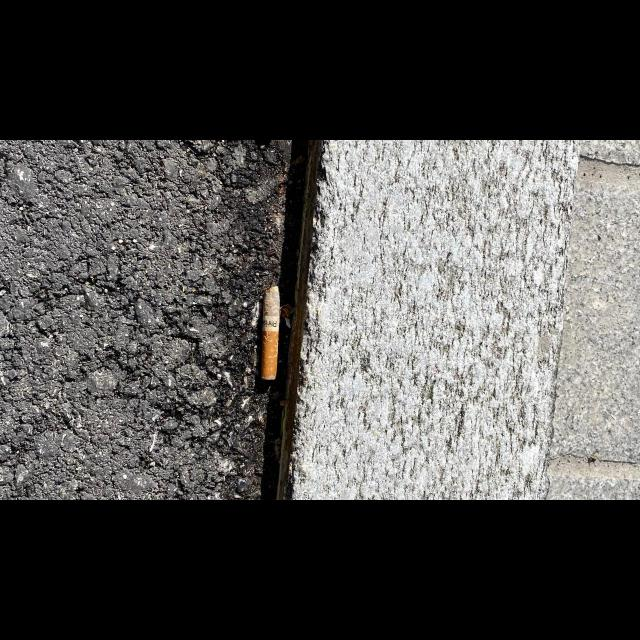cigarette: (260, 285, 280, 381)
